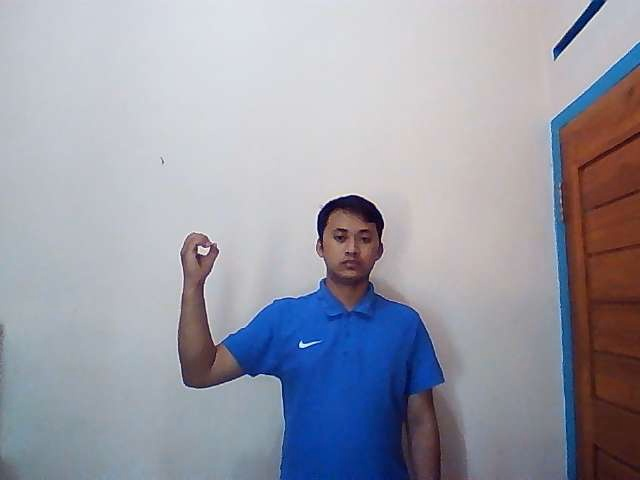O: (180, 231, 219, 285)
